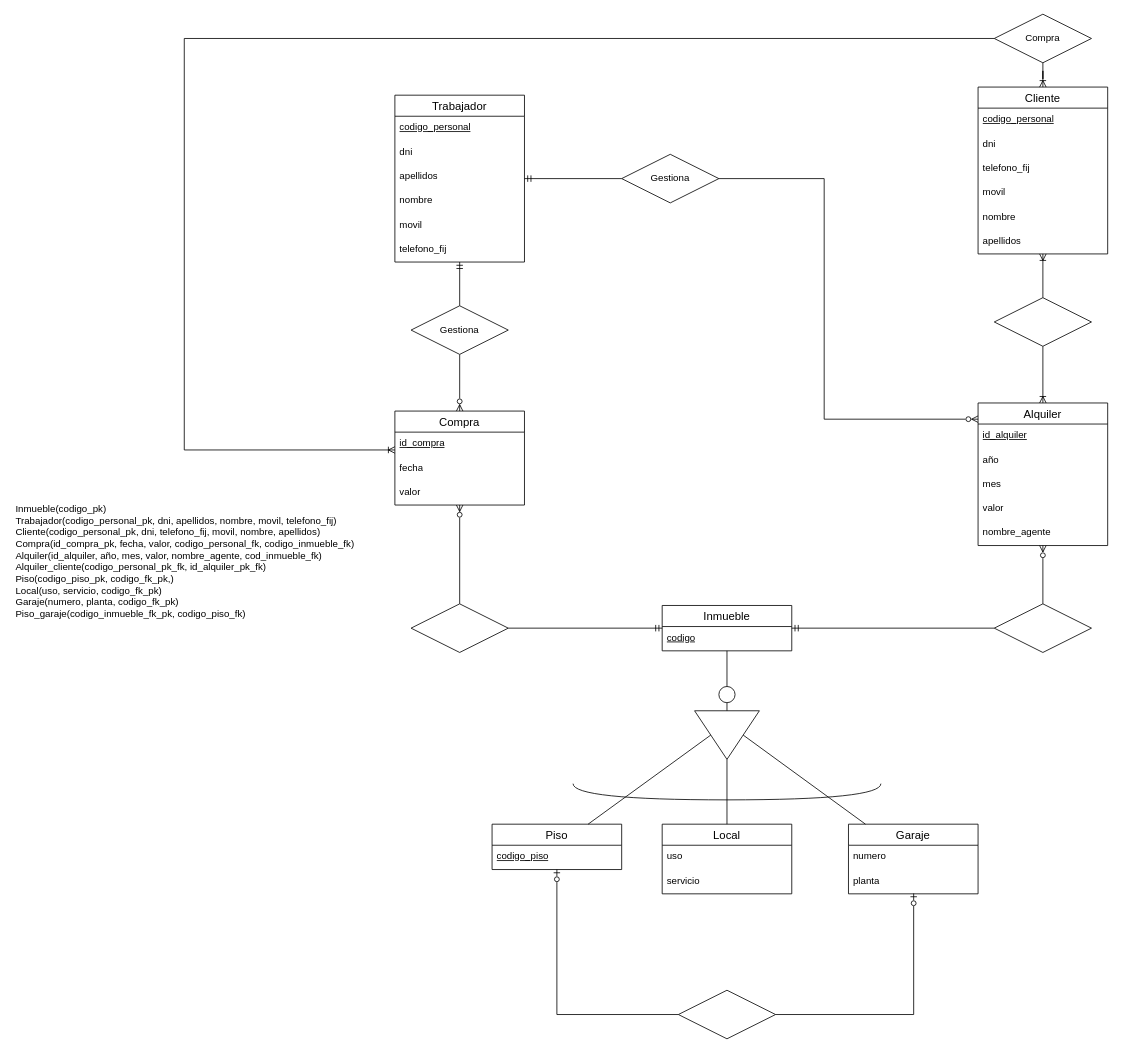
Some shapes in this 1122 by 1053 pixel diagram are drawn without their labels. Here are the shapes that lost their labels. From the top down, the centre of each, then its label:
At point 1042,321: "Renta".
At point 459,627: "Realiza".
At point 1042,627: "Asigna".
At point 727,1014: "asociado".
